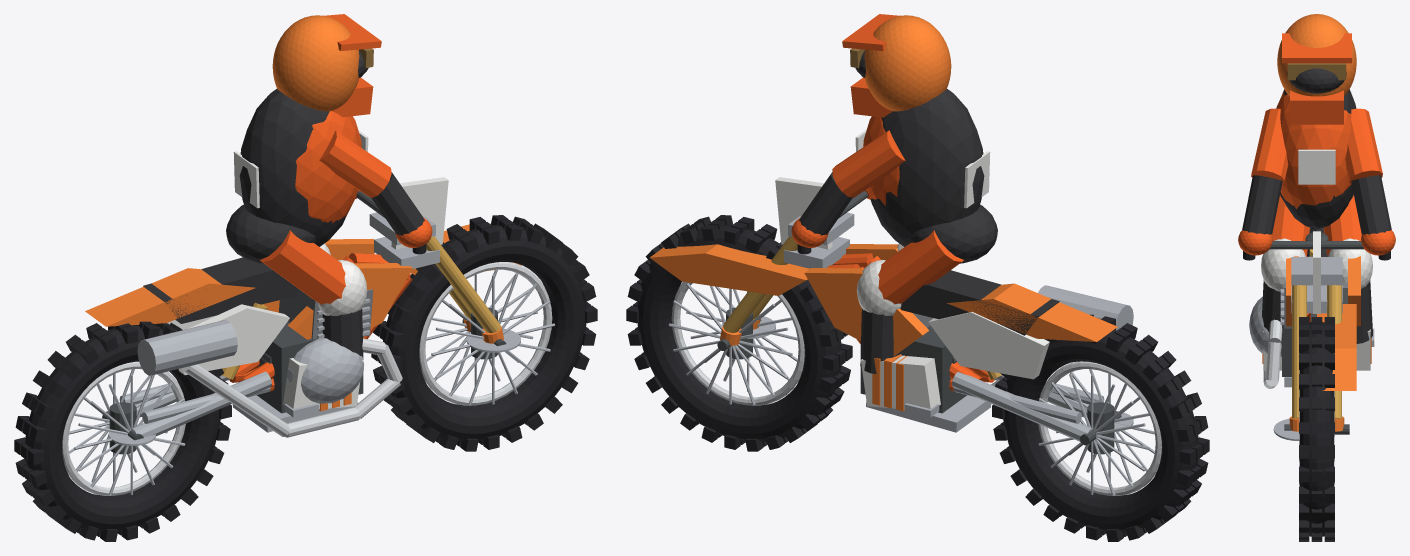
The model's file is dirt_bike_rider_flagship_v3.glb.
3 renders of one model, left to right at view 1: azimuth 30°, elevation 25°; view 2: azimuth 150°, elevation 25°; view 3: azimuth 270°, elevation 25°, orthographic. The views are drawn at different scales.
Visible parts, largest first — view 1: FrontTire, RearTire, RiderTorso, HelmetShell, RearFender, RiderJersey, Muffler, Seat, RiderLThigh, EngineClutchCover, FrontRim, RightNumberPlate (+24 smaller); view 2: RearTire, FrontTire, RiderTorso, HelmetShell, FrontFender, LeftNumberPlate, RearFender, LeftShroud, Seat, RiderRThigh, RearRim, RiderRUpperArm (+19 smaller); view 3: RiderJersey, FrontTire, HelmetShell, RiderRUpperArm, FrontFender, RiderLUpperArm, RiderRForearm, RiderLForearm, HelmetChinGuard, RiderTorso, HelmetVisor, ChestLogoPatch (+25 smaller).
Part boxes in pixels (x1,y1,x2,y2): FrontTire: [383, 225, 586, 441]; RearTire: [25, 325, 220, 531]; RiderTorso: [239, 89, 346, 246]; HelmetShell: [272, 15, 359, 111]; RearFender: [85, 268, 255, 326]; RiderJersey: [295, 111, 361, 223]; Muffler: [137, 320, 237, 375]; Seat: [143, 257, 297, 323]; RiderLThigh: [260, 230, 345, 304]; EngineClutchCover: [286, 337, 363, 403]; FrontRim: [419, 262, 552, 405]; RightNumberPlate: [178, 304, 289, 375]; RearTire: [1003, 329, 1198, 531]; FrontTire: [637, 225, 841, 441]; RiderTorso: [870, 89, 984, 246]; HelmetShell: [864, 15, 951, 111]; FrontFender: [650, 244, 809, 295]; LeftNumberPlate: [928, 312, 1049, 379]; RearFender: [947, 283, 1117, 342]; LeftShroud: [804, 268, 928, 356]; Seat: [900, 270, 1059, 335]; RiderRThigh: [878, 230, 963, 304]; RearRim: [1038, 361, 1161, 495]; RiderRUpperArm: [832, 130, 905, 197]; RiderJersey: [1276, 91, 1351, 208]; FrontTire: [1300, 322, 1333, 536]; HelmetShell: [1277, 14, 1356, 96]; RiderRUpperArm: [1345, 108, 1382, 184]; FrontFender: [1317, 304, 1356, 390]; RiderLUpperArm: [1251, 108, 1288, 184]; RiderRForearm: [1351, 175, 1391, 234]; RiderLForearm: [1242, 175, 1282, 234]; HelmetChinGuard: [1290, 90, 1343, 124]; RiderTorso: [1282, 89, 1356, 229]; HelmetVisor: [1282, 33, 1351, 63]; ChestLogoPatch: [1298, 149, 1335, 184].
Size of the model in its own units: 2.62 by 2.07 by 0.675.
